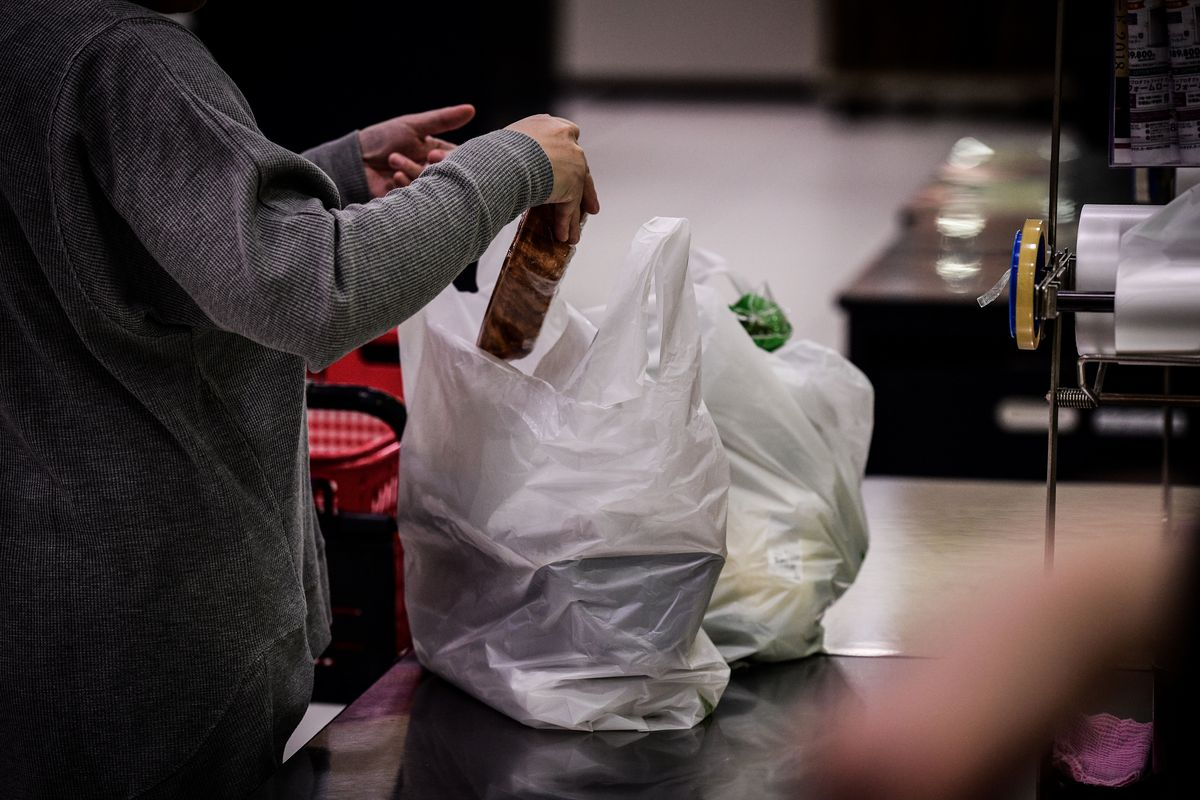plastic_bag: (390, 207, 734, 745)
